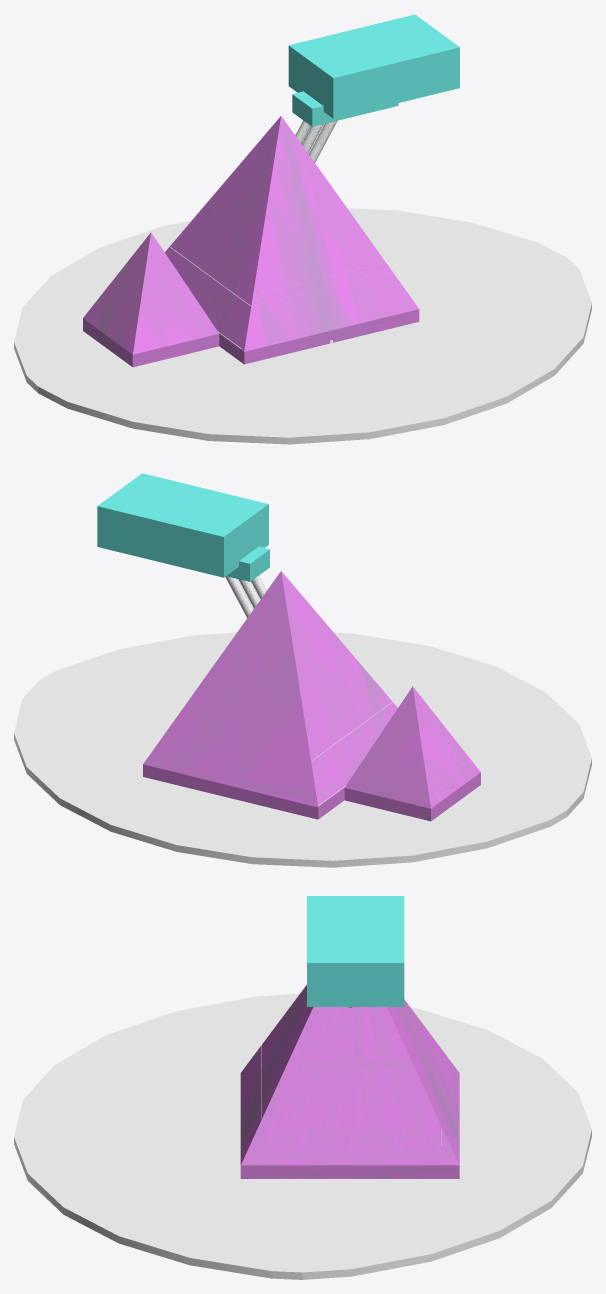
Rendered from TGMHQ.dae.
The picture shows the model from 3 angles, top to bottom: view 1: azimuth 30°, elevation 25°; view 2: azimuth 150°, elevation 25°; view 3: azimuth 270°, elevation 25°; orthographic projection. The views are drawn at different scales.
Visible parts, largest first — view 1: SketchUp (×2), smallbox (×2); view 2: SketchUp (×2), smallbox (×2); view 3: SketchUp (×2), smallbox.
Boxes of the visible parts, x1,y1,x2,y2 form: SketchUp (×2): [14, 116, 591, 444]; smallbox (×2): [288, 14, 459, 126]; SketchUp (×2): [14, 571, 591, 867]; smallbox (×2): [97, 473, 269, 581]; SketchUp (×2): [14, 985, 591, 1279]; smallbox: [307, 896, 404, 1006].
Size of the model in its own units: 36664 by 32086 by 16013.
